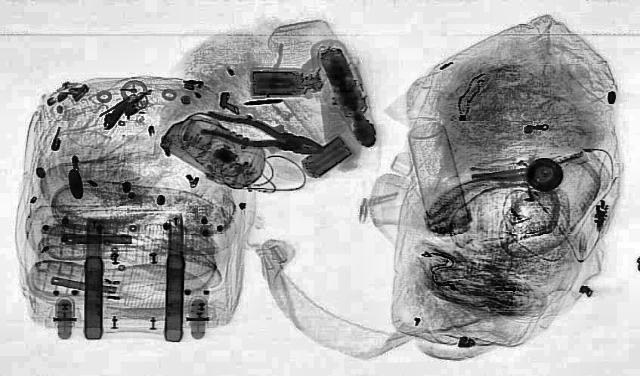Pliers: (188, 108, 329, 160)
